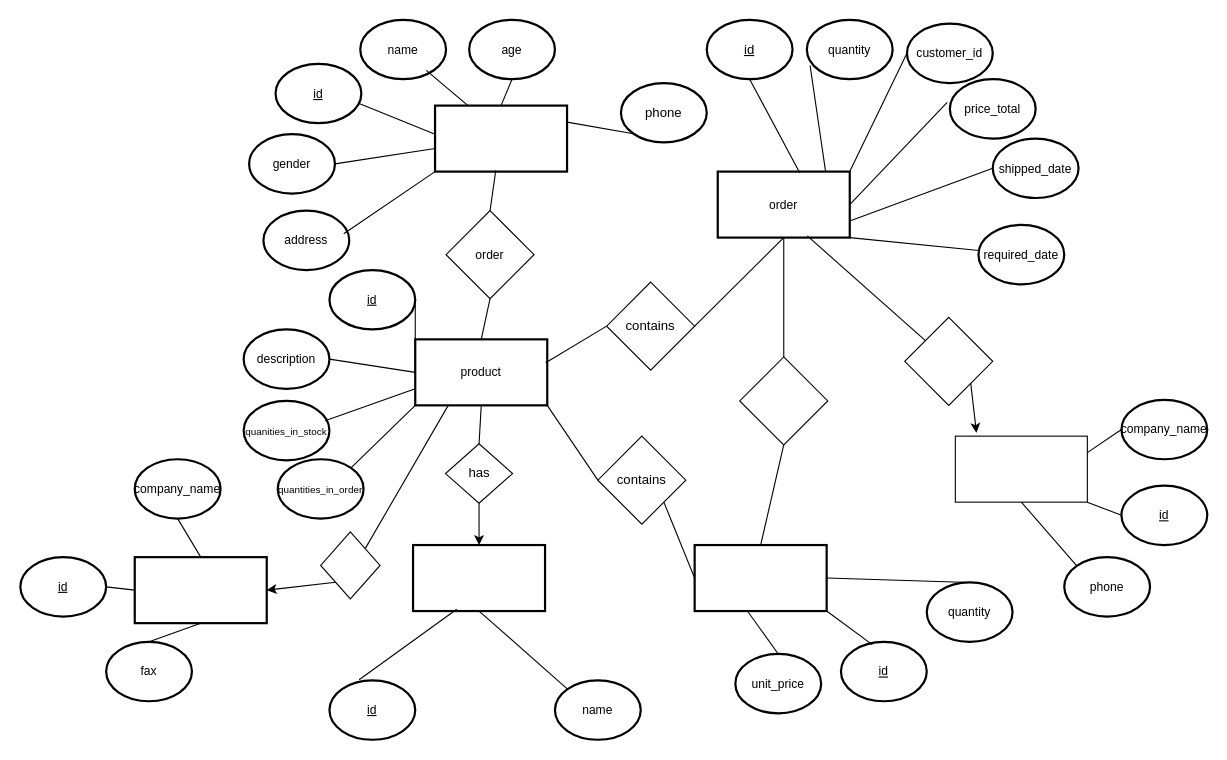
Image size: 1227x760. Some labels were removed from this diagram. The centre of each missing label's shape, as x and y in pixels:
"category" belongs at pixel 478 577.
"creates" belongs at pixel 783 400.
"Customer" belongs at pixel 500 138.
"deliveiries" belongs at pixel 948 360.
"order_details" belongs at pixel 760 577.
"produces" belongs at pixel 350 565.
"shipper" belongs at pixel 1020 468.
"Supplier" belongs at pixel 200 590.
